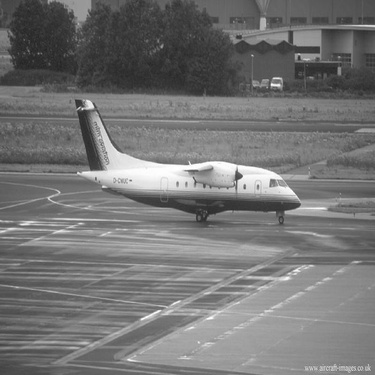airplane: (53, 88, 308, 232)
